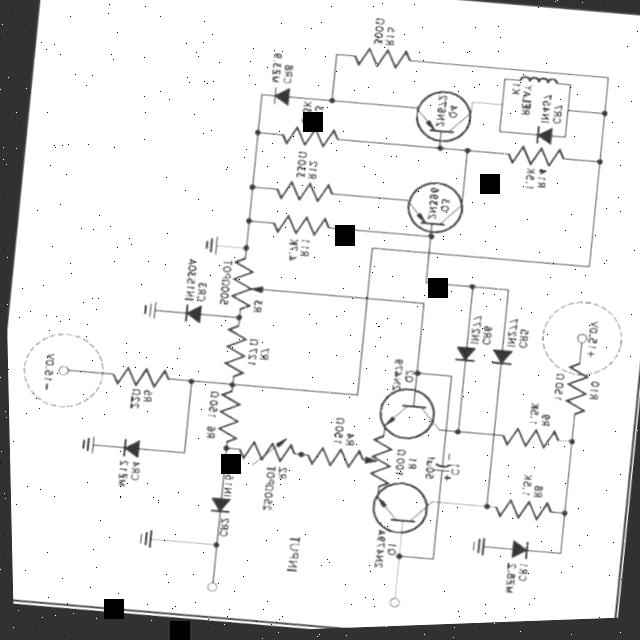capacitor: (421, 453, 454, 485)
diode: (198, 482, 237, 523), (171, 288, 208, 331), (262, 75, 297, 119), (104, 429, 150, 462), (446, 336, 483, 377), (484, 340, 518, 378), (500, 541, 535, 577), (523, 125, 558, 154)
ground: (123, 517, 162, 556), (65, 429, 101, 462), (460, 534, 492, 563), (189, 233, 223, 260), (133, 299, 165, 326)
inductor: (510, 73, 562, 99)
node: (172, 371, 199, 393), (224, 306, 249, 326), (558, 438, 582, 456), (321, 92, 341, 112), (418, 229, 438, 248), (585, 157, 605, 176), (221, 379, 242, 397), (459, 282, 480, 299), (385, 553, 406, 570), (201, 538, 223, 554), (592, 110, 614, 126), (245, 126, 264, 144), (233, 240, 250, 259), (291, 450, 307, 470), (446, 427, 464, 444), (459, 147, 477, 164), (238, 214, 256, 230), (551, 509, 567, 527), (474, 503, 490, 520), (241, 180, 258, 196), (405, 370, 422, 385), (213, 444, 229, 456), (431, 147, 446, 159)
resistor: (268, 119, 359, 170), (545, 352, 600, 428), (102, 355, 178, 408), (340, 37, 425, 83), (227, 432, 295, 487), (296, 434, 369, 484), (263, 211, 343, 254), (487, 492, 562, 537), (215, 256, 265, 319), (206, 322, 256, 385), (495, 143, 572, 183), (355, 428, 399, 498), (262, 175, 342, 211), (492, 425, 561, 465), (204, 393, 246, 448)
transistor: (399, 86, 481, 160), (366, 377, 444, 453), (355, 477, 430, 551), (393, 180, 469, 252)
